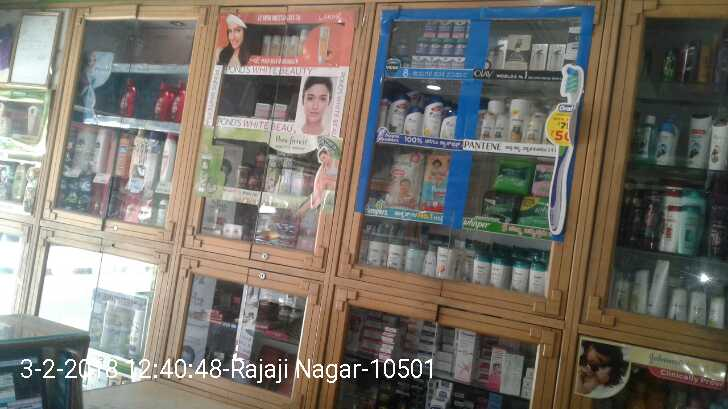beauty: (503, 32, 529, 73), (387, 90, 406, 136), (425, 95, 440, 136), (528, 40, 547, 72), (507, 106, 522, 144), (491, 111, 503, 145), (441, 110, 455, 139), (405, 108, 418, 139), (548, 44, 562, 72), (479, 111, 491, 137), (527, 118, 539, 142)
pharmacy: (389, 154, 419, 209), (423, 152, 446, 211), (494, 160, 531, 195), (518, 197, 549, 230), (482, 192, 517, 219), (530, 162, 552, 195), (394, 38, 409, 60), (438, 18, 452, 41), (422, 18, 436, 37), (438, 53, 452, 71), (451, 20, 464, 38), (416, 36, 429, 54), (430, 41, 440, 58), (414, 54, 425, 69), (452, 54, 463, 69), (443, 39, 452, 57), (455, 44, 468, 56), (427, 56, 436, 71)
